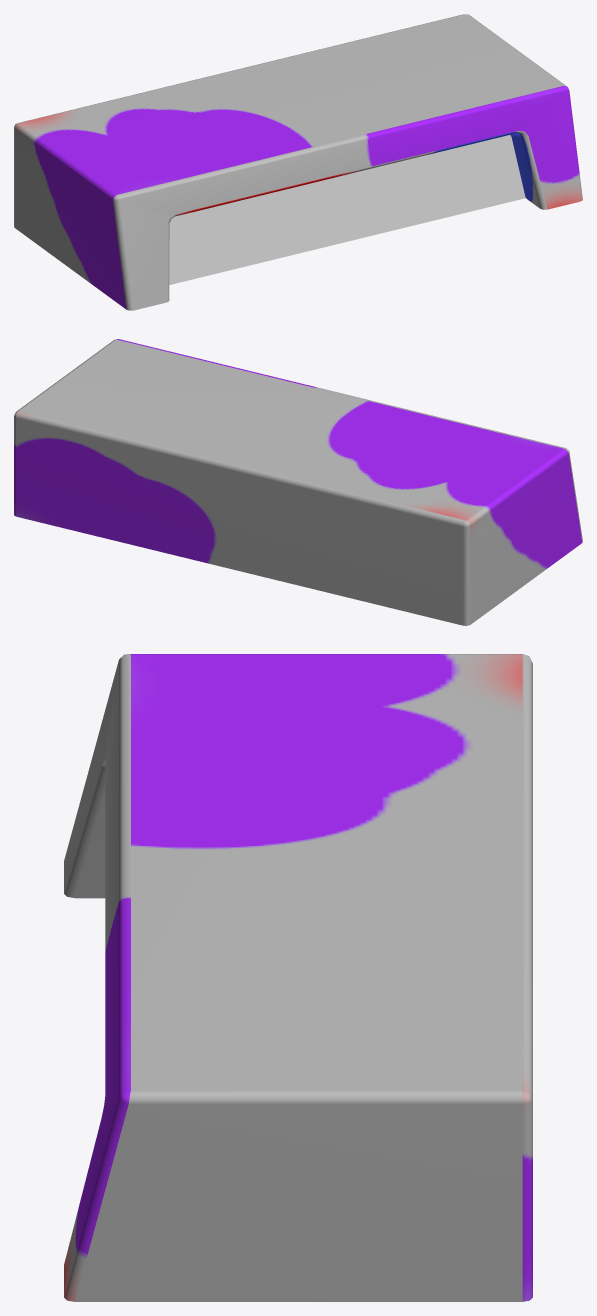
File: SM_Sewer.fbx
3 renders of one model, top to bottom at view 1: azimuth 30°, elevation 25°; view 2: azimuth 150°, elevation 25°; view 3: azimuth 270°, elevation 25°, orthographic. The views are drawn at different scales.
Parts seen in each view (by area): view 1: SM_Sewer; view 2: SM_Sewer; view 3: SM_Sewer.
Boxes of the visible parts, bbox=[...] form: SM_Sewer: bbox=[14, 14, 582, 310]; SM_Sewer: bbox=[14, 339, 582, 625]; SM_Sewer: bbox=[64, 654, 532, 1301].
Bounding box in the file's own units: 200 × 43.38 × 89.1.
